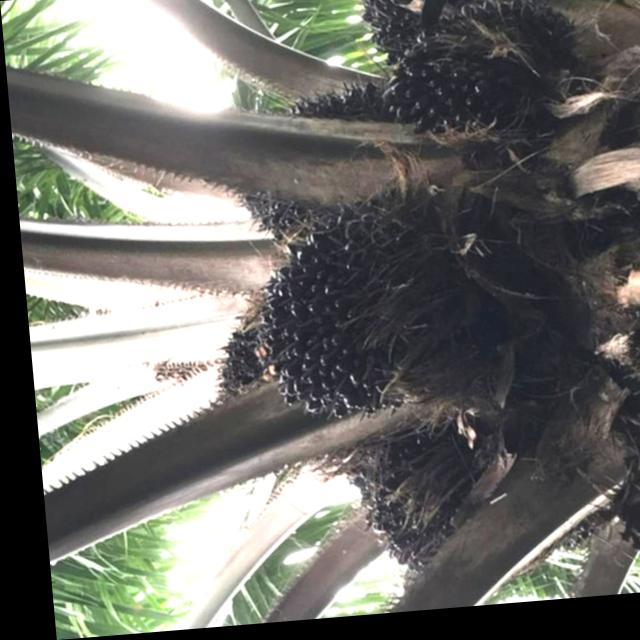ripe: (221, 185, 463, 441)
